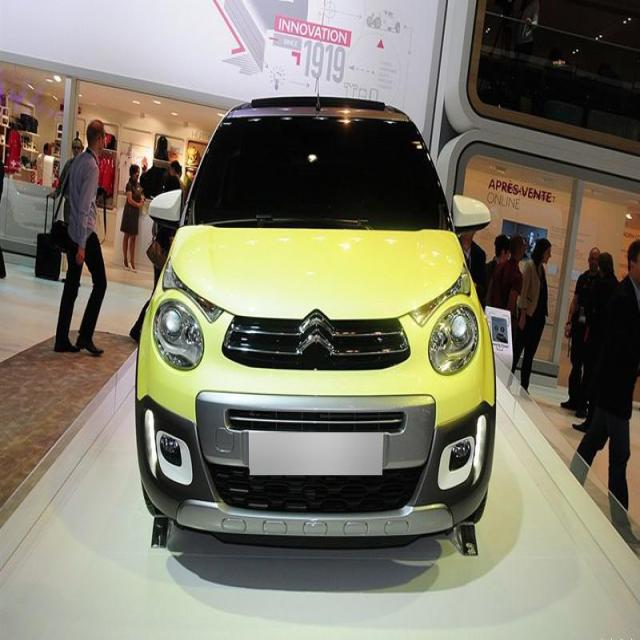front_bumper: (135, 389, 498, 541), (182, 119, 451, 229)
front_left_side_light: (426, 301, 481, 377)
front_left_side_mirror: (448, 192, 492, 238)
front_right_side_light: (152, 291, 206, 376)
front_right_side_mirror: (146, 188, 187, 230)
